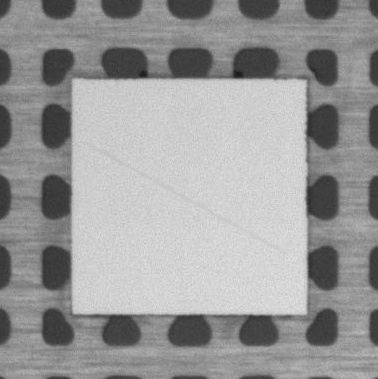DIE_CRACK: (86, 143, 286, 255)
